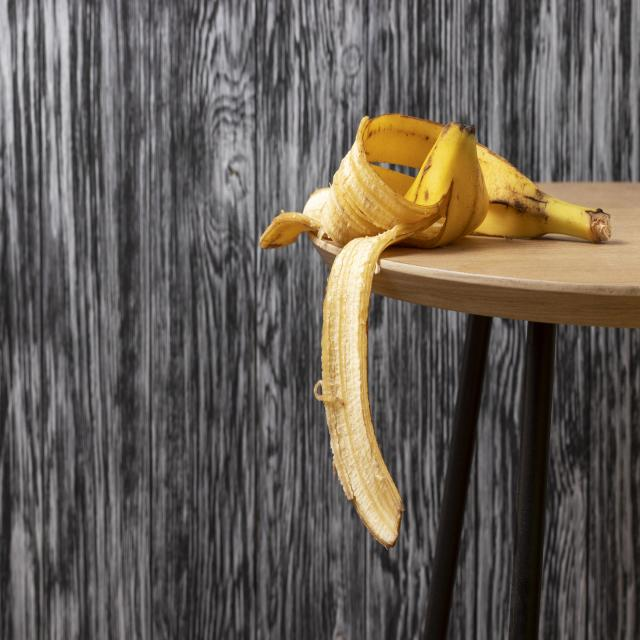Cascara de banano: (263, 117, 611, 539)
